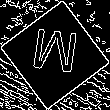M_S: (28, 27, 82, 83)
